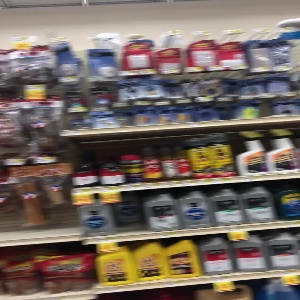void: (107, 196, 151, 234)
